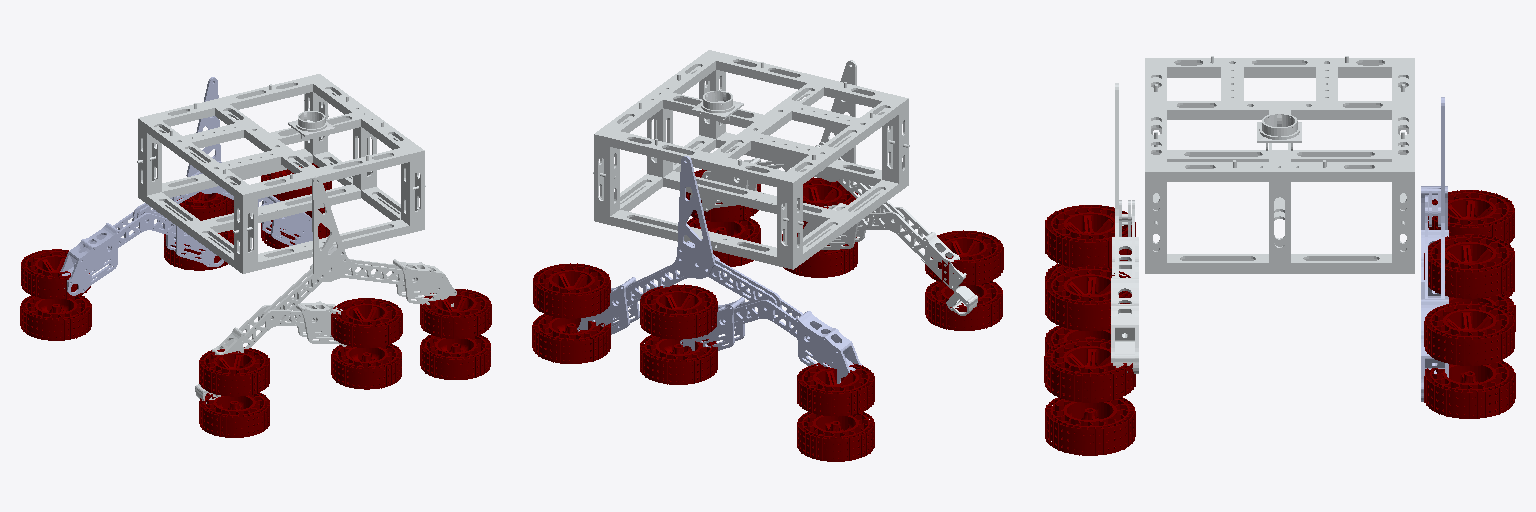
The robot description file, URDF, robot "rover_sept":
<?xml version="1.0" encoding="utf-8"?>
<!-- This URDF was automatically created by SolidWorks to URDF Exporter! Originally created by [author] ([email redacted]) 
     Commit Version: 1.6.0-1-g15f4949  Build Version: 1.6.7594.29634
     For more information, please see http://wiki.ros.org/sw_urdf_exporter -->
<robot
  name="rover_sept">
  <link
    name="base_link">
    <inertial>
      <origin
        xyz="-7.6886588062189E-05 -3.7549352463021E-06 0.595583448793911"
        rpy="0 0 0" />
      <mass
        value="12.7039342899442" />
      <inertia
        ixx="0.692252467134115"
        ixy="-5.63451292179205E-09"
        ixz="0.0100575847822606"
        iyy="0.743299764038894"
        iyz="8.67410154654538E-08"
        izz="1.15934417655828" />
    </inertial>
    <visual>
      <origin
        xyz="0 0 0"
        rpy="0 0 0" />
      <geometry>
        <mesh
          filename="package://rover_sept/meshes/base_link.STL" />
      </geometry>
      <material
        name="">
        <color
          rgba="0.898039215686275 0.917647058823529 0.929411764705882 1" />
      </material>
    </visual>
    <collision>
      <origin
        xyz="0 0 0"
        rpy="0 0 0" />
      <geometry>
        <mesh
          filename="package://rover_sept/meshes/base_link.STL" />
      </geometry>
    </collision>
  </link>
  <link
    name="front_right_sus">
    <inertial>
      <origin
        xyz="0.139626457494787 -0.03323933796304 -0.0534635870321652"
        rpy="0 0 0" />
      <mass
        value="1.99138251583435" />
      <inertia
        ixx="0.0112611380486172"
        ixy="2.61302926584588E-08"
        ixz="0.00773875913692021"
        iyy="0.027237657067576"
        iyz="3.20841470877354E-09"
        izz="0.0160674571690306" />
    </inertial>
    <visual>
      <origin
        xyz="0 0 0"
        rpy="0 0 0" />
      <geometry>
        <mesh
          filename="package://rover_sept/meshes/front_right_sus.STL" />
      </geometry>
      <material
        name="">
        <color
          rgba="0.898039215686275 0.917647058823529 0.929411764705882 1" />
      </material>
    </visual>
    <collision>
      <origin
        xyz="0 0 0"
        rpy="0 0 0" />
      <geometry>
        <mesh
          filename="package://rover_sept/meshes/front_right_sus.STL" />
      </geometry>
    </collision>
  </link>
  <joint
    name="front_right_sus_joint"
    type="revolute">
    <origin
      xyz="-0.05 -0.31387 0.44008"
      rpy="0 0 0" />
    <parent
      link="base_link" />
    <child
      link="front_right_sus" />
    <axis
      xyz="0 1 0" />
    <limit
      lower="-0.22"
      upper="0.45"
      effort="10"
      velocity="10" />
  </joint>
  <link
    name="front_right_wheel">
    <inertial>
      <origin
        xyz="5.9972526667007E-07 0.0774999919904723 1.03927060854381E-06"
        rpy="0 0 0" />
      <mass
        value="1.34905188053121" />
      <inertia
        ixx="0.00419774858213161"
        ixy="2.67208772843052E-08"
        ixz="1.53544234650773E-08"
        iyy="0.00747592275269746"
        iyz="-1.5379774702474E-08"
        izz="0.00419776491334243" />
    </inertial>
    <visual>
      <origin
        xyz="0 0 0"
        rpy="0 0 0" />
      <geometry>
        <mesh
          filename="package://rover_sept/meshes/front_right_wheel.STL" />
      </geometry>
      <material
        name="">
        <color
          rgba="0.501960784313725 0 0 1" />
      </material>
    </visual>
    <collision>
      <origin
        xyz="0 0 0"
        rpy="0 0 0" />
      <geometry>
        <mesh
          filename="package://rover_sept/meshes/front_right_wheel.STL" />
      </geometry>
    </collision>
  </link>
  <joint
    name="front_right_wheel_joint"
    type="continuous">
    <origin
      xyz="0.3823 -0.10813 -0.20698"
      rpy="0 0 0" />
    <parent
      link="front_right_sus" />
    <child
      link="front_right_wheel" />
    <axis
      xyz="0 1 0" />
    <limit
      lower="-1.57"
      upper="1.57"
      effort="100"
      velocity="100" />
  </joint>
  <link
    name="rear_right_sus">
    <inertial>
      <origin
        xyz="0.0694292702436995 0.0223575539619391 -0.0554767615580418"
        rpy="0 0 0" />
      <mass
        value="1.52083982211752" />
      <inertia
        ixx="0.00320038752002223"
        ixy="1.67064090577947E-08"
        ixz="-0.00291092997024346"
        iyy="0.0132812519096931"
        iyz="1.41632653543065E-08"
        izz="0.0102301599625941" />
    </inertial>
    <visual>
      <origin
        xyz="0 0 0"
        rpy="0 0 0" />
      <geometry>
        <mesh
          filename="package://rover_sept/meshes/rear_right_sus.STL" />
      </geometry>
      <material
        name="">
        <color
          rgba="0.898039215686275 0.917647058823529 0.929411764705882 1" />
      </material>
    </visual>
    <collision>
      <origin
        xyz="0 0 0"
        rpy="0 0 0" />
      <geometry>
        <mesh
          filename="package://rover_sept/meshes/rear_right_sus.STL" />
      </geometry>
    </collision>
  </link>
  <joint
    name="rear_right_sus_joint"
    type="revolute">
    <origin
      xyz="-0.19112 -0.052628 -0.10897"
      rpy="0 0 0" />
    <parent
      link="front_right_sus" />
    <child
      link="rear_right_sus" />
    <axis
      xyz="0 1 0" />
    <limit
      lower="0"
      upper="0.5"
      effort="10"
      velocity="10" />
  </joint>
  <link
    name="mid_right_wheel">
    <inertial>
      <origin
        xyz="1.12605955548267E-06 0.0774999920540196 -4.14363614809066E-07"
        rpy="0 0 0" />
      <mass
        value="1.3490518822002" />
      <inertia
        ixx="0.00419776958265061"
        ixy="-1.0607038435768E-08"
        ixz="-1.17203274682805E-08"
        iyy="0.00747592273559064"
        iyz="-2.89453796470249E-08"
        izz="0.00419774389727313" />
    </inertial>
    <visual>
      <origin
        xyz="0 0 0"
        rpy="0 0 0" />
      <geometry>
        <mesh
          filename="package://rover_sept/meshes/mid_right_wheel.STL" />
      </geometry>
      <material
        name="">
        <color
          rgba="0.501960784313725 0 0 1" />
      </material>
    </visual>
    <collision>
      <origin
        xyz="0 0 0"
        rpy="0 0 0" />
      <geometry>
        <mesh
          filename="package://rover_sept/meshes/mid_right_wheel.STL" />
      </geometry>
    </collision>
  </link>
  <joint
    name="mid_right_wheel_joint"
    type="continuous">
    <origin
      xyz="0.28023 -0.055002 -0.058682"
      rpy="0 0 0" />
    <parent
      link="rear_right_sus" />
    <child
      link="mid_right_wheel" />
    <axis
      xyz="0 1 0" />
    <limit
      effort="100"
      velocity="100" />
  </joint>
  <link
    name="rear_right_wheel">
    <inertial>
      <origin
        xyz="1.15448259563333E-06 0.0775000080597553 3.26705908521019E-07"
        rpy="0 0 0" />
      <mass
        value="1.34905188070644" />
      <inertia
        ixx="0.00419777124054956"
        ixy="8.35007770882989E-09"
        ixz="9.61717858794046E-09"
        iyy="0.00747592275332749"
        iyz="-2.96793436890126E-08"
        izz="0.00419774225554238" />
    </inertial>
    <visual>
      <origin
        xyz="0 0 0"
        rpy="0 0 0" />
      <geometry>
        <mesh
          filename="package://rover_sept/meshes/rear_right_wheel.STL" />
      </geometry>
      <material
        name="">
        <color
          rgba="0.501960784313725 0 0 1" />
      </material>
    </visual>
    <collision>
      <origin
        xyz="0 0 0"
        rpy="0 0 0" />
      <geometry>
        <mesh
          filename="package://rover_sept/meshes/rear_right_wheel.STL" />
      </geometry>
    </collision>
  </link>
  <joint
    name="rear_right_wheel_joint"
    type="continuous">
    <origin
      xyz="-0.15583 -0.054998 -0.24019"
      rpy="0 0 0" />
    <parent
      link="rear_right_sus" />
    <child
      link="rear_right_wheel" />
    <axis
      xyz="0 1 0" />
    <limit
      effort="100"
      velocity="100" />
  </joint>
  <link
    name="front_left_sus">
    <inertial>
      <origin
        xyz="0.154642657504145 0.0284323647305548 -0.102328148548314"
        rpy="0 0 0" />
      <mass
        value="1.42403447749554" />
      <inertia
        ixx="0.00699056322530377"
        ixy="2.63133148939349E-08"
        ixz="0.00459305282427453"
        iyy="0.0157904284322379"
        iyz="-9.18349719338934E-10"
        izz="0.00887690921264305" />
    </inertial>
    <visual>
      <origin
        xyz="0 0 0"
        rpy="0 0 0" />
      <geometry>
        <mesh
          filename="package://rover_sept/meshes/front_left_sus.STL" />
      </geometry>
      <material
        name="">
        <color
          rgba="0.792156862745098 0.819607843137255 0.933333333333333 1" />
      </material>
    </visual>
    <collision>
      <origin
        xyz="0 0 0"
        rpy="0 0 0" />
      <geometry>
        <mesh
          filename="package://rover_sept/meshes/front_left_sus.STL" />
      </geometry>
    </collision>
  </link>
  <joint
    name="front_left_sus_joint"
    type="revolute">
    <origin
      xyz="-0.05 0.31487 0.44008"
      rpy="0 0 0" />
    <parent
      link="base_link" />
    <child
      link="front_left_sus" />
    <axis
      xyz="0 1 0" />
    <limit
      lower="-1.57"
      upper="1.57"
      effort="0"
      velocity="0" />
    <mimic
      joint="front_right_sus_joint"
      multiplier="-1"
      offset="0" />
  </joint>
  <link
    name="front_left_wheel">
    <inertial>
      <origin
        xyz="1.18533285781153E-06 -0.0775000080971626 -1.99812164869417E-07"
        rpy="0 0 0" />
      <mass
        value="1.34905188056458" />
      <inertia
        ixx="0.00419777294206246"
        ixy="-5.14930277931382E-09"
        ixz="-6.33878227571808E-09"
        iyy="0.00747592275281212"
        iyz="-3.03979638613661E-08"
        izz="0.00419774055352542" />
    </inertial>
    <visual>
      <origin
        xyz="0 0 0"
        rpy="0 0 0" />
      <geometry>
        <mesh
          filename="package://rover_sept/meshes/front_left_wheel.STL" />
      </geometry>
      <material
        name="">
        <color
          rgba="0.501960784313725 0 0 1" />
      </material>
    </visual>
    <collision>
      <origin
        xyz="0 0 0"
        rpy="0 0 0" />
      <geometry>
        <mesh
          filename="package://rover_sept/meshes/front_left_wheel.STL" />
      </geometry>
    </collision>
  </link>
  <joint
    name="front_left_wheel_joint"
    type="continuous">
    <origin
      xyz="0.34526 0.10813 -0.26419"
      rpy="0 0 0" />
    <parent
      link="front_left_sus" />
    <child
      link="front_left_wheel" />
    <axis
      xyz="0 1 0" />
    <limit
      effort="100"
      velocity="100" />
  </joint>
  <link
    name="rear_left_sus">
    <inertial>
      <origin
        xyz="-0.00338980046111931 -0.0222499999732845 -0.0826610515838171"
        rpy="0 0 0" />
      <mass
        value="1.90548278572856" />
      <inertia
        ixx="0.00285673050955862"
        ixy="5.24454317763174E-08"
        ixz="0.000378498286107578"
        iyy="0.0147823715837697"
        iyz="-2.15176326837086E-09"
        izz="0.0120709778343263" />
    </inertial>
    <visual>
      <origin
        xyz="0 0 0"
        rpy="0 0 0" />
      <geometry>
        <mesh
          filename="package://rover_sept/meshes/rear_left_sus.STL" />
      </geometry>
      <material
        name="">
        <color
          rgba="0.792156862745098 0.819607843137255 0.933333333333333 1" />
      </material>
    </visual>
    <collision>
      <origin
        xyz="0 0 0"
        rpy="0 0 0" />
      <geometry>
        <mesh
          filename="package://rover_sept/meshes/rear_left_sus.STL" />
      </geometry>
    </collision>
  </link>
  <joint
    name="rear_left_sus_joint"
    type="revolute">
    <origin
      xyz="-0.2058 0.052628 -0.07776"
      rpy="0 0 0" />
    <parent
      link="front_left_sus" />
    <child
      link="rear_left_sus" />
    <axis
      xyz="0 1 0" />
    <limit
      lower="-0.25"
      upper="0.25"
      effort="10"
      velocity="10" />
  </joint>
  <link
    name="mid_left_wheel">
    <inertial>
      <origin
        xyz="1.19157687656149E-06 -0.0775000080478689 1.38535797028494E-07"
        rpy="0 0 0" />
      <mass
        value="1.34905188034585" />
      <inertia
        ixx="0.00419777380464596"
        ixy="3.60334845198442E-09"
        ixz="3.40208888887428E-09"
        iyy="0.00747592275210144"
        iyz="-3.06199109041981E-08"
        izz="0.00419773969022813" />
    </inertial>
    <visual>
      <origin
        xyz="0 0 0"
        rpy="0 0 0" />
      <geometry>
        <mesh
          filename="package://rover_sept/meshes/mid_left_wheel.STL" />
      </geometry>
      <material
        name="">
        <color
          rgba="0.501960784313725 0 0 1" />
      </material>
    </visual>
    <collision>
      <origin
        xyz="0 0 0"
        rpy="0 0 0" />
      <geometry>
        <mesh
          filename="package://rover_sept/meshes/mid_left_wheel.STL" />
      </geometry>
    </collision>
  </link>
  <joint
    name="mid_left_wheel_joint"
    type="continuous">
    <origin
      xyz="0.22933 0.055498 -0.1714"
      rpy="0 0 0" />
    <parent
      link="rear_left_sus" />
    <child
      link="mid_left_wheel" />
    <axis
      xyz="0 1 0" />
    <limit
      effort="100"
      velocity="100" />
  </joint>
  <link
    name="rear_left_wheel">
    <inertial>
      <origin
        xyz="-1.0841439295195E-06 -0.0774999919570801 -5.13619061393022E-07"
        rpy="0 0 0" />
      <mass
        value="1.34905188036255" />
      <inertia
        ixx="0.0041977672858723"
        ixy="-1.31615077266798E-08"
        ixz="1.38349916316566E-08"
        iyy="0.0074759227413913"
        iyz="2.78800372696282E-08"
        izz="0.00419774619903427" />
    </inertial>
    <visual>
      <origin
        xyz="0 0 0"
        rpy="0 0 0" />
      <geometry>
        <mesh
          filename="package://rover_sept/meshes/rear_left_wheel.STL" />
      </geometry>
      <material
        name="">
        <color
          rgba="0.501960784313725 0 0 1" />
      </material>
    </visual>
    <collision>
      <origin
        xyz="0 0 0"
        rpy="0 0 0" />
      <geometry>
        <mesh
          filename="package://rover_sept/meshes/rear_left_wheel.STL" />
      </geometry>
    </collision>
  </link>
  <joint
    name="rear_left_wheel_joint"
    type="continuous">
    <origin
      xyz="-0.2426 0.055002 -0.15205"
      rpy="0 0 0" />
    <parent
      link="rear_left_sus" />
    <child
      link="rear_left_wheel" />
    <axis
      xyz="0 1 0" />
    <limit
      effort="100"
      velocity="100" />
  </joint>

  <gazebo>
    <plugin name="skid_steer_drive_controller" filename="libgazebo_ros_skid_steer_drive6.so">
      <updateRate>100.0</updateRate>
      <leftFrontJoint>front_left_wheel_joint</leftFrontJoint>
      <rightFrontJoint>front_right_wheel_joint</rightFrontJoint>
      <leftMidJoint>mid_left_wheel_joint</leftMidJoint>
      <rightMidJoint>mid_right_wheel_joint</rightMidJoint>
      <leftRearJoint>rear_left_wheel_joint</leftRearJoint>
      <rightRearJoint>rear_right_wheel_joint</rightRearJoint>
      <wheelSeparation>0.7</wheelSeparation>
      <wheelDiameter>0.1</wheelDiameter>
      <robotBaseFrame>chassis</robotBaseFrame>
      <torque>20</torque>
      <topicName>cmd_vel</topicName>
      <commandTopic>cmd_vel</commandTopic>
      <odometryTopic>odom</odometryTopic>
      <odometryFrame>odom</odometryFrame>
      <broadcastTF>true</broadcastTF>
      <legacyMode>false</legacyMode>
    </plugin>
  </gazebo>
</robot>

--- What the picture shows (computed from the rendered views, not written in the file) ---
3 views of the same robot in one strip: view 1: azimuth 30°, elevation 25°; view 2: azimuth 150°, elevation 25°; view 3: azimuth 270°, elevation 25° (orthographic).
Robot: rover_sept — 11 links, 10 joints (4 revolute, 6 continuous); root link base_link; default pose: every joint at zero.
Links seen in each view (by area): view 1: base_link, front_right_sus, mid_right_wheel, rear_right_wheel, front_right_wheel, rear_left_wheel, rear_left_sus, rear_right_sus, front_left_sus, mid_left_wheel, front_left_wheel; view 2: base_link, front_left_wheel, mid_left_wheel, rear_left_wheel, front_left_sus, rear_right_wheel, rear_left_sus, rear_right_sus, mid_right_wheel, front_right_sus, front_right_wheel; view 3: base_link, front_left_wheel, front_right_wheel, mid_left_wheel, mid_right_wheel, rear_right_wheel, front_right_sus, rear_left_wheel, front_left_sus, rear_left_sus, rear_right_sus.
Boxes of the visible links, x1=… form: base_link: x1=137, y1=74, x2=425, y2=273; front_right_sus: x1=261, y1=176, x2=456, y2=322; mid_right_wheel: x1=331, y1=298, x2=402, y2=389; rear_right_wheel: x1=199, y1=347, x2=269, y2=437; front_right_wheel: x1=420, y1=289, x2=491, y2=379; rear_left_wheel: x1=20, y1=249, x2=91, y2=340; rear_left_sus: x1=60, y1=212, x2=223, y2=295; rear_right_sus: x1=195, y1=301, x2=346, y2=403; front_left_sus: x1=133, y1=77, x2=312, y2=245; mid_left_wheel: x1=164, y1=192, x2=233, y2=270; front_left_wheel: x1=261, y1=163, x2=331, y2=248; base_link: x1=593, y1=50, x2=909, y2=269; front_left_wheel: x1=532, y1=263, x2=610, y2=363; mid_left_wheel: x1=640, y1=284, x2=717, y2=384; rear_left_wheel: x1=797, y1=363, x2=874, y2=461; front_left_sus: x1=577, y1=156, x2=780, y2=334; rear_right_wheel: x1=925, y1=230, x2=1003, y2=330; rear_left_sus: x1=680, y1=296, x2=861, y2=383; rear_right_sus: x1=803, y1=203, x2=977, y2=315; mid_right_wheel: x1=782, y1=177, x2=857, y2=277; front_right_sus: x1=690, y1=60, x2=904, y2=226; front_right_wheel: x1=686, y1=169, x2=760, y2=266; base_link: x1=1145, y1=56, x2=1414, y2=273; front_left_wheel: x1=1424, y1=301, x2=1515, y2=418; front_right_wheel: x1=1044, y1=338, x2=1135, y2=455; mid_left_wheel: x1=1424, y1=234, x2=1515, y2=331; mid_right_wheel: x1=1045, y1=266, x2=1131, y2=355; rear_right_wheel: x1=1045, y1=205, x2=1135, y2=284; front_right_sus: x1=1111, y1=83, x2=1138, y2=373; rear_left_wheel: x1=1428, y1=190, x2=1514, y2=296; front_left_sus: x1=1421, y1=97, x2=1448, y2=401; rear_left_sus: x1=1421, y1=186, x2=1448, y2=298; rear_right_sus: x1=1112, y1=214, x2=1138, y2=277.
Size in the robot's own frame: 1.03 by 1.05 by 0.6945 metres.
11 mesh visuals loaded from 11 distinct referenced files (11 binary STL).